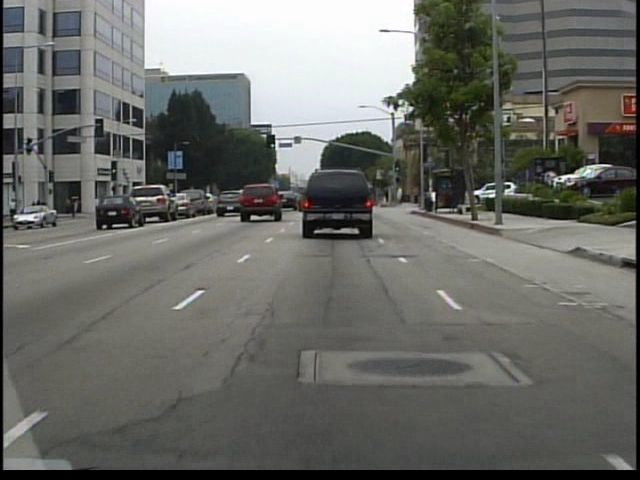person: (8, 192, 24, 226), (395, 184, 408, 208), (411, 181, 422, 207), (384, 185, 389, 203)
